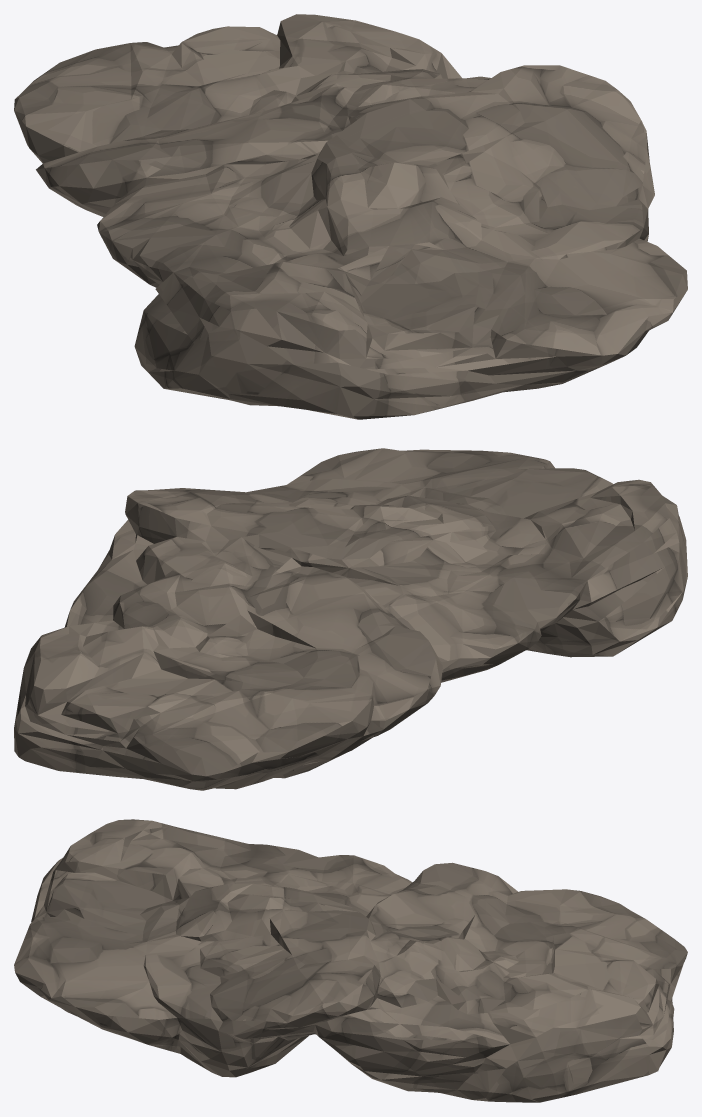
3 views of the same model, one above another, from view 1: azimuth 30°, elevation 25°; view 2: azimuth 150°, elevation 25°; view 3: azimuth 270°, elevation 25° (orthographic). The views are drawn at different scales.
Parts seen in each view (by area): view 1: SM_Rock_Cluster_Large_06; view 2: SM_Rock_Cluster_Large_06; view 3: SM_Rock_Cluster_Large_06.
Boxes of the visible parts, <box> form: SM_Rock_Cluster_Large_06: <box>14,14,687,419</box>; SM_Rock_Cluster_Large_06: <box>14,448,687,790</box>; SM_Rock_Cluster_Large_06: <box>14,819,687,1102</box>.
Size of the model in its own units: 27.5 by 8.39 by 38.95.
1 material, 1 textured.
